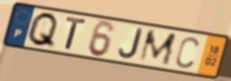6: (86, 19, 117, 59)
C: (174, 35, 200, 70)
J: (118, 27, 144, 61)
M: (137, 29, 179, 68)
Q: (25, 11, 60, 51)
T: (64, 16, 89, 51)
